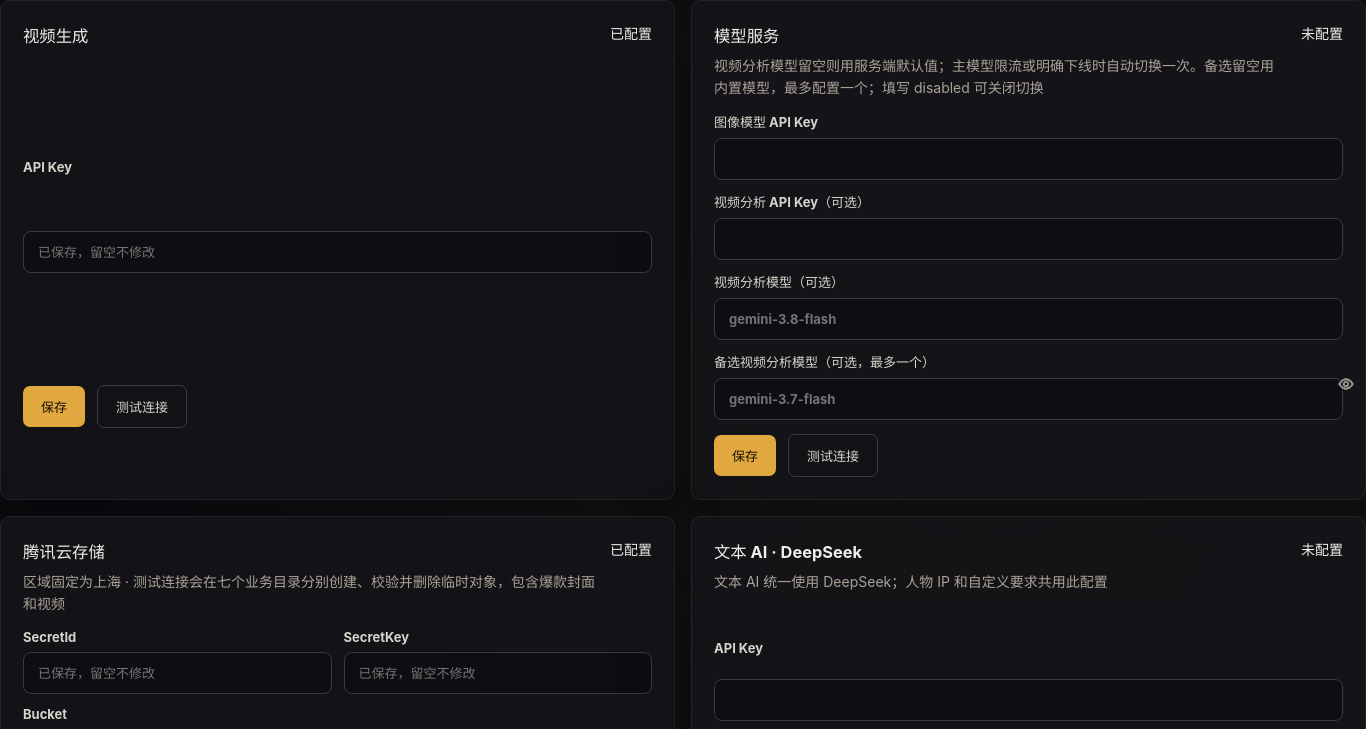
Test: SettingsPanel › saves an edited provider key through the PUT settings route
Expected: the heading "视频生成" is shown, left=23, top=26, right=88, bottom=46
Type "test-key-1" into the 1st password field labelled "API Key".
click(338, 252); type("test-key-1")  # box left=23, top=231, right=652, bottom=273
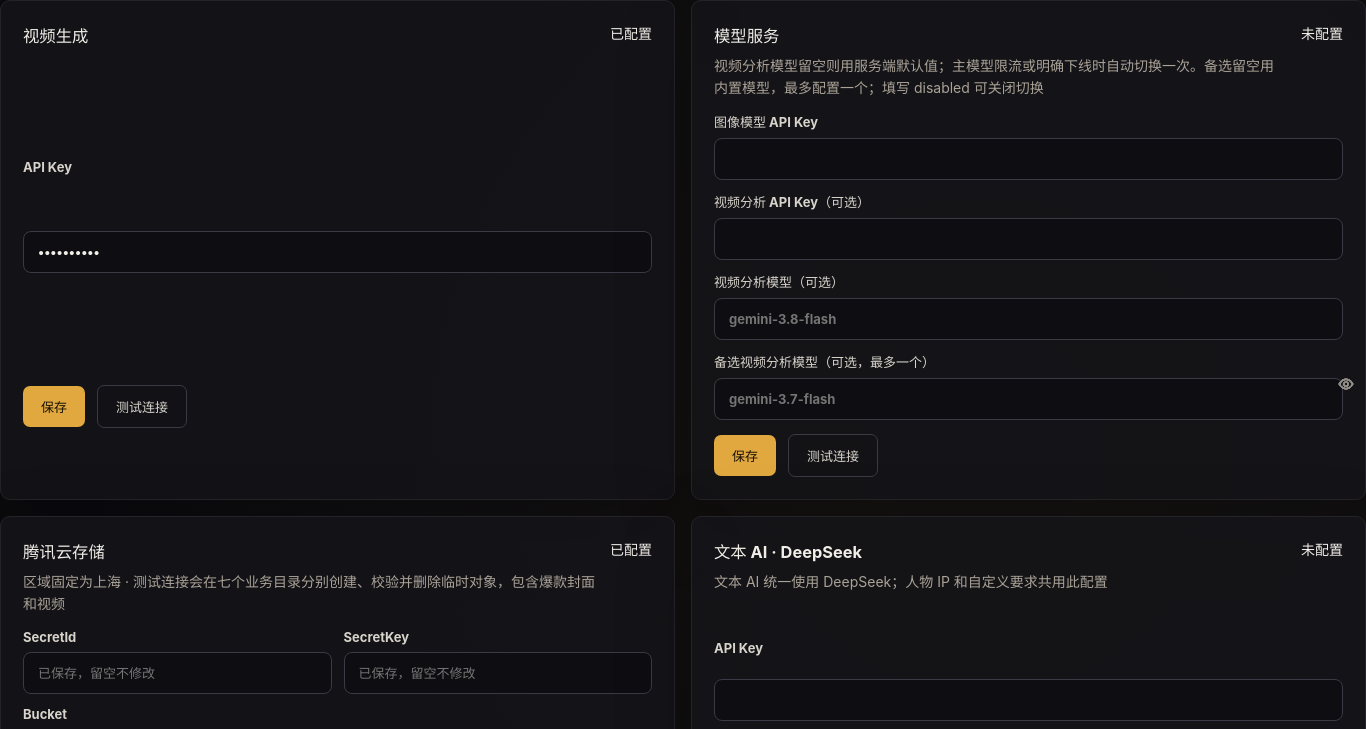
Click the 1st button "保存".
click(54, 407)  # box left=23, top=386, right=85, bottom=427
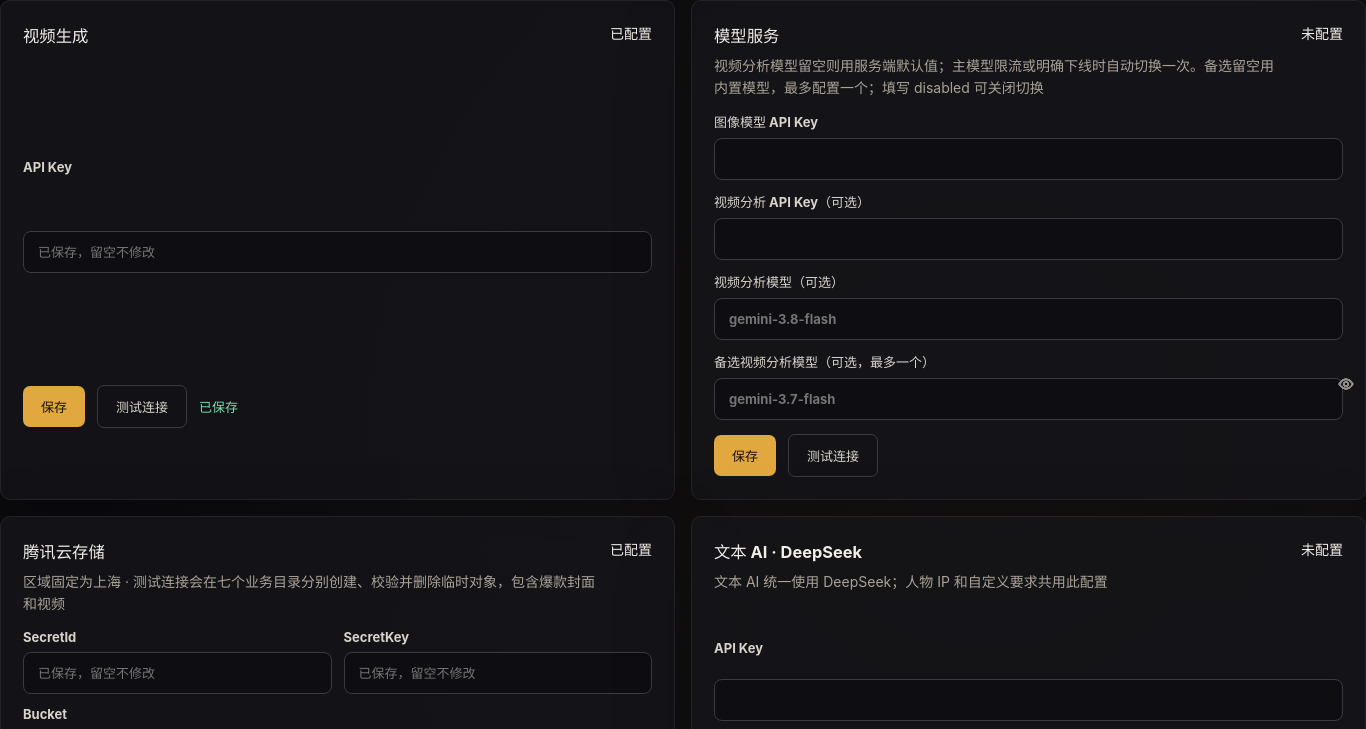
Expected: the text "已保存" is shown, left=199, top=397, right=238, bottom=416
Expected: the 1st password field labelled "API Key" is empty, left=23, top=231, right=652, bottom=273
